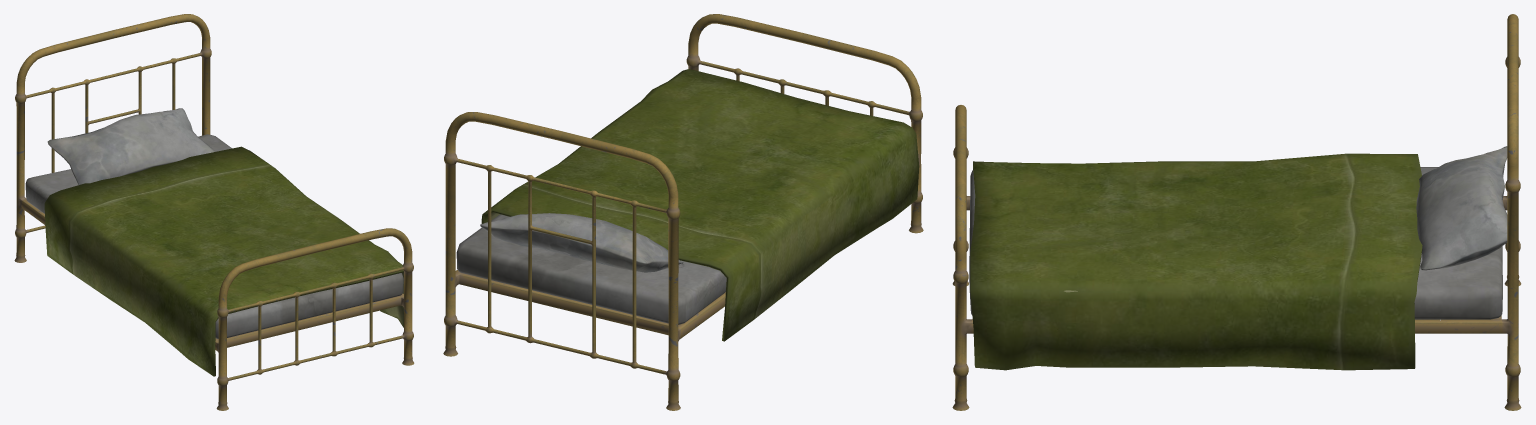
The picture shows the model from 3 angles, left to right: view 1: azimuth 30°, elevation 25°; view 2: azimuth 150°, elevation 25°; view 3: azimuth 270°, elevation 25°; orthographic projection. The views are drawn at different scales.
Visible parts, largest first — view 1: Cloth_Low, MetalBed_3_Low, Pillow_Low, Bed_Low; view 2: Cloth_Low, MetalBed_3_Low, Bed_Low, Pillow_Low; view 3: Cloth_Low, MetalBed_3_Low, Pillow_Low, Bed_Low.
Part boxes in pixels (x1,y1,x2,y2): Cloth_Low: (44, 146, 403, 376); MetalBed_3_Low: (14, 14, 414, 410); Pillow_Low: (47, 108, 215, 184); Bed_Low: (25, 134, 403, 338); Cloth_Low: (481, 69, 919, 341); MetalBed_3_Low: (443, 14, 923, 410); Bed_Low: (456, 214, 726, 324); Pillow_Low: (480, 213, 683, 272); Cloth_Low: (970, 153, 1422, 370); MetalBed_3_Low: (952, 14, 1521, 410); Pillow_Low: (1416, 146, 1507, 270); Bed_Low: (969, 167, 1502, 319).
Size of the model in its own units: 147 by 140 by 255.
2 materials, 2 textured.
